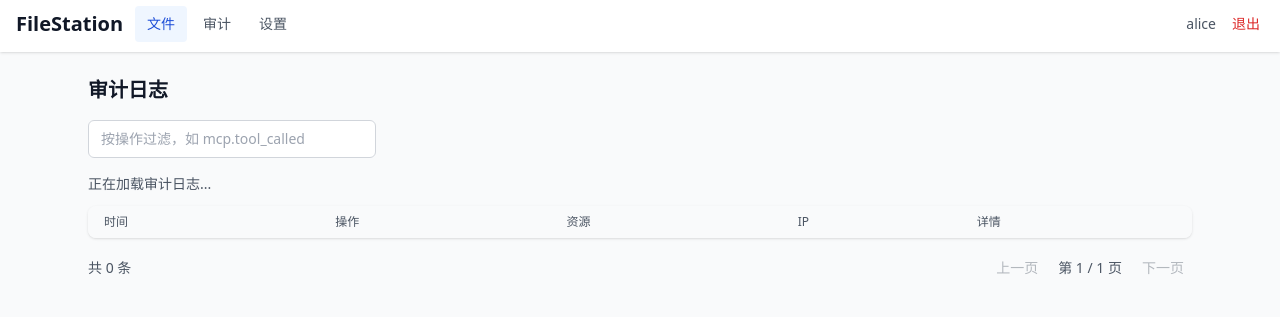
Test: AuditPage › ignores a slow response after a newer filter request has completed
In the field labelled "按操作过滤": [232, 139] box [88,120,376,158], type "mcp"
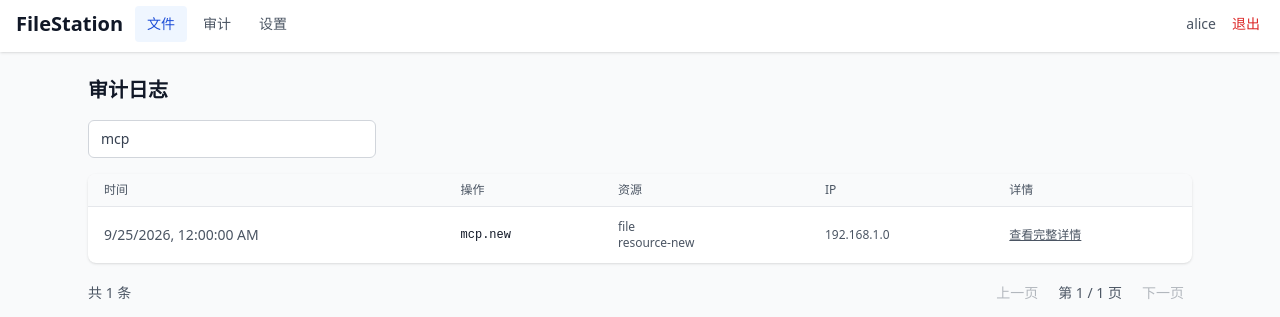
Expected: the text "mcp.new" is shown, [444,206,602,263]
